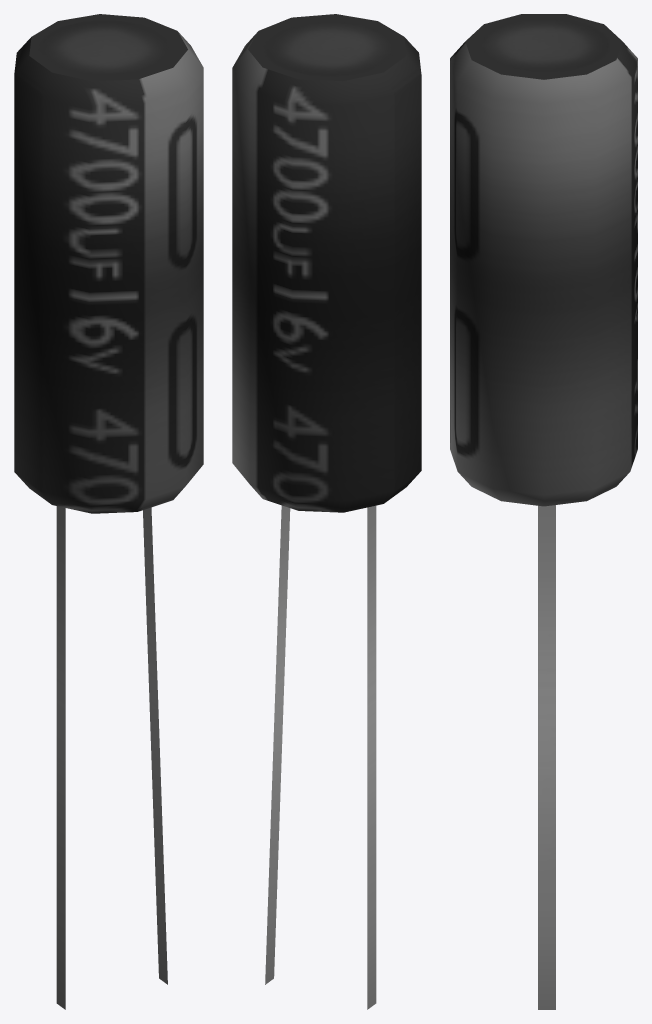
Rendered from black_capacitor.FBX.
3 views of the same model, side by side, from view 1: azimuth 30°, elevation 25°; view 2: azimuth 150°, elevation 25°; view 3: azimuth 270°, elevation 25° (orthographic).
Visible parts, largest first — view 1: black_capacitor; view 2: black_capacitor; view 3: black_capacitor.
Boxes of the visible parts, x1,y1,x2,y2 form: black_capacitor: (14,14,203,1009); black_capacitor: (232,14,421,1009); black_capacitor: (450,14,637,1009).
Size of the model in its own units: 4.42 by 24.55 by 4.47.
1 material, 1 textured.
